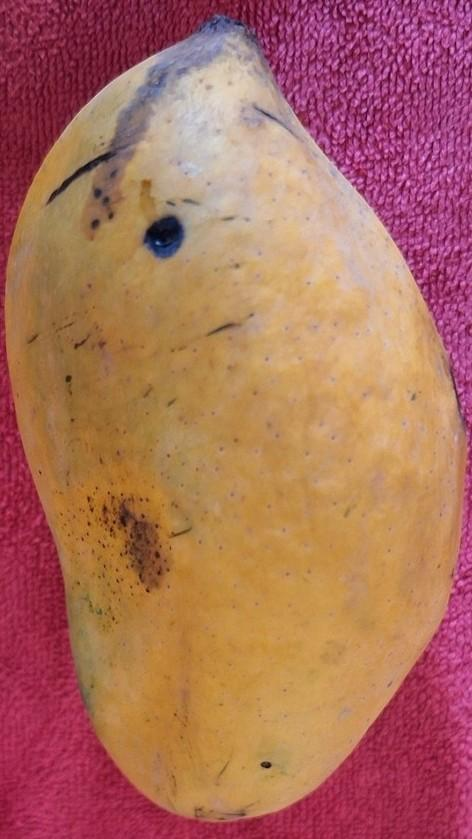mango: (3, 14, 468, 823)
